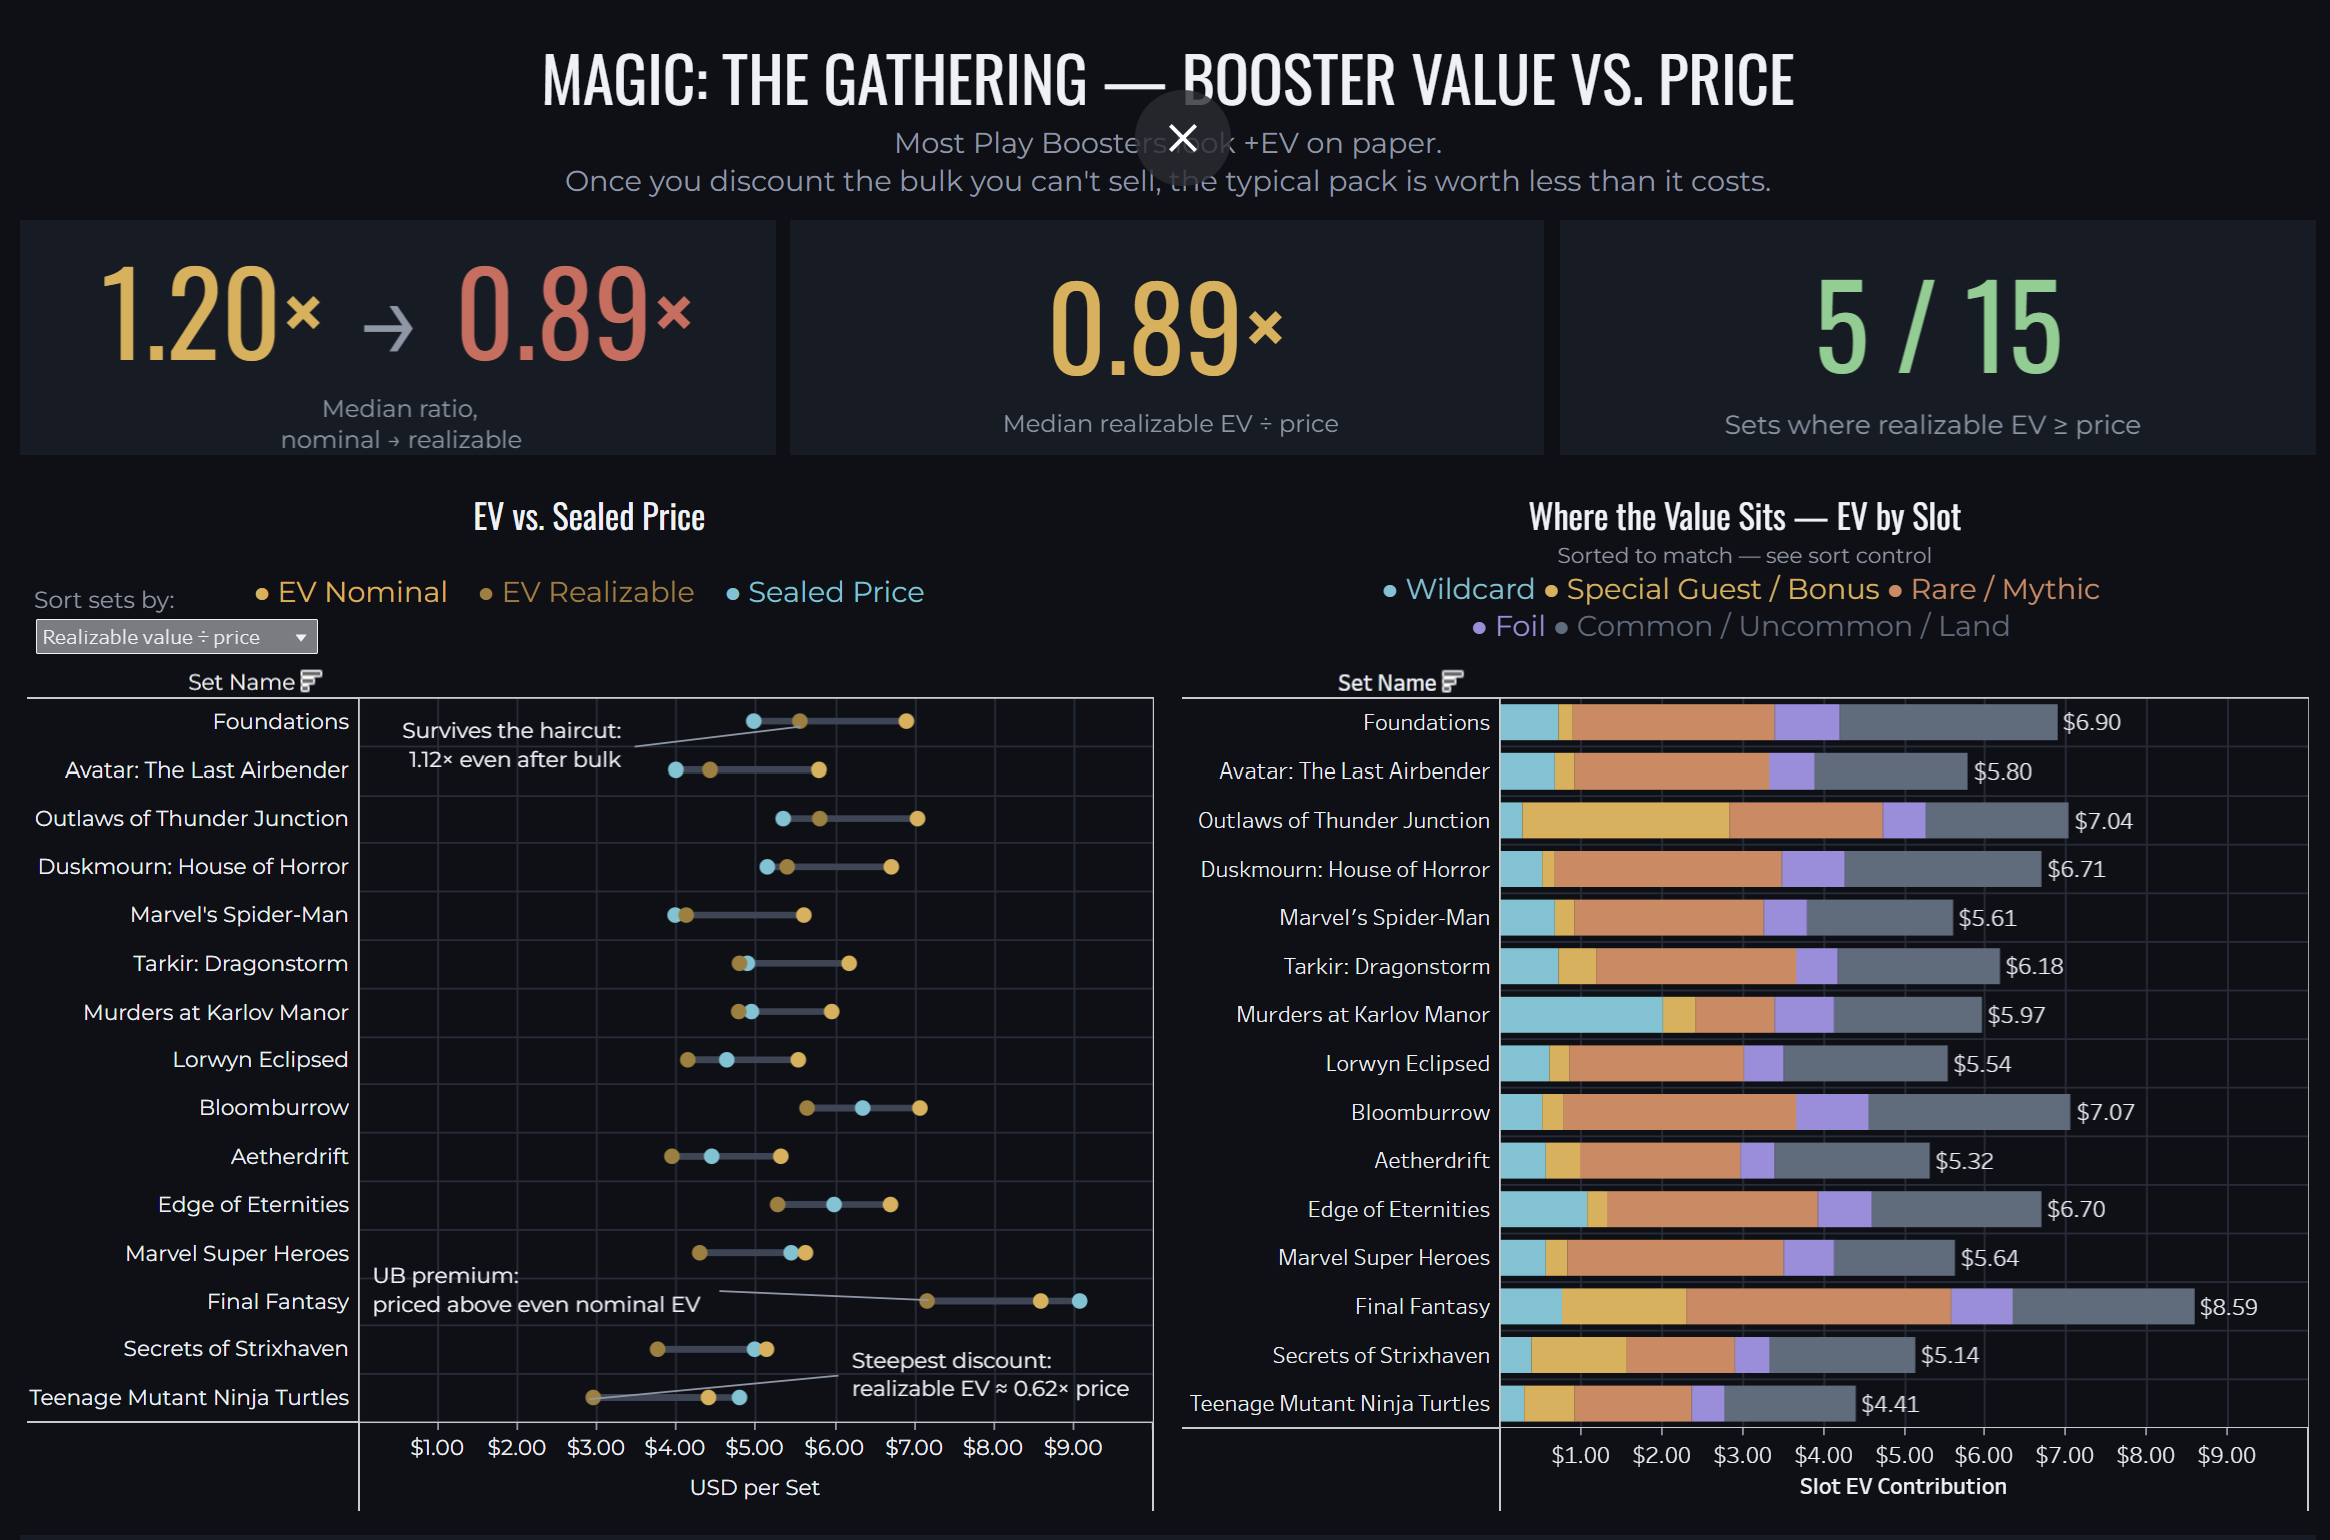

Layout of this report page (visuals, bound fields, positions):
{"tool":"tableau","page":{"name":"Booster Value","canvas":[1300,1200],"ordinal":0},"visuals":[{"type":"text","box":[8,8,1284,110]},{"type":"worksheet","title":"BAN Spread","mark":"Automatic","box":[8,118,428,139]},{"type":"worksheet","title":"BAN Median Ratio","mark":"Text","box":[436,118,428,139]},{"type":"worksheet","title":"BAN Sets Above","mark":"Text","box":[864,118,428,139]},{"type":"worksheet","title":"EV vs Price","mark":"Circle","rows":["set_name"],"box":[8,257,642,595.9]},{"type":"worksheet","title":"EV by Slot","mark":"Bar","rows":["set_name"],"cols":["slot_ev_contribution","slot_ev_contribution"],"box":[650,257,642,595.9]},{"type":"parameter","param":"[Parameters].[Parameter 1]","box":[20,319,159,52]},{"type":"text","box":[8,853,1284,227]},{"type":"text","box":[8,1080,1284,112]}]}

Visuals, with their boxes on the page's 1300x1200 design canvas (x1, y1, x2, y2). These are canvas units, not pixel positions in the 2330x1540 screenshot, which may show the page scaled, cropped or inside an application window:
text: {"x1": 8, "y1": 8, "x2": 1292, "y2": 118}
"BAN Spread" worksheet: {"x1": 8, "y1": 118, "x2": 436, "y2": 257}
"BAN Median Ratio" worksheet (Text marks): {"x1": 436, "y1": 118, "x2": 864, "y2": 257}
"BAN Sets Above" worksheet (Text marks): {"x1": 864, "y1": 118, "x2": 1292, "y2": 257}
"EV vs Price" worksheet (Circle marks): {"x1": 8, "y1": 257, "x2": 650, "y2": 853}
"EV by Slot" worksheet (Bar marks): {"x1": 650, "y1": 257, "x2": 1292, "y2": 853}
parameter: {"x1": 20, "y1": 319, "x2": 179, "y2": 371}
text: {"x1": 8, "y1": 853, "x2": 1292, "y2": 1080}
text: {"x1": 8, "y1": 1080, "x2": 1292, "y2": 1192}
